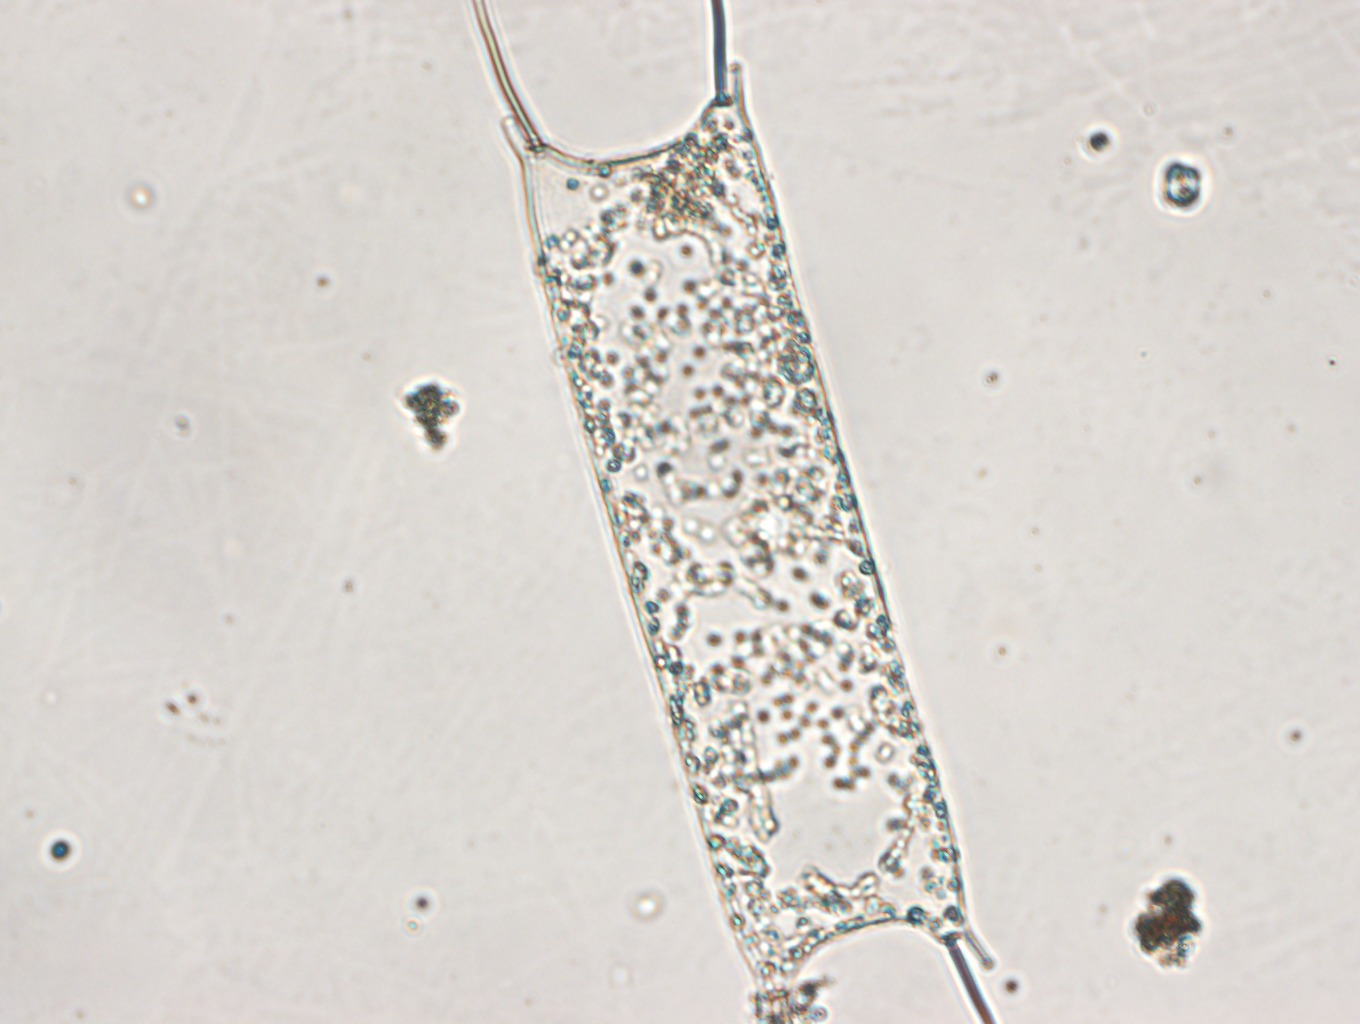biddulphia: (469, 1, 1005, 1024)
